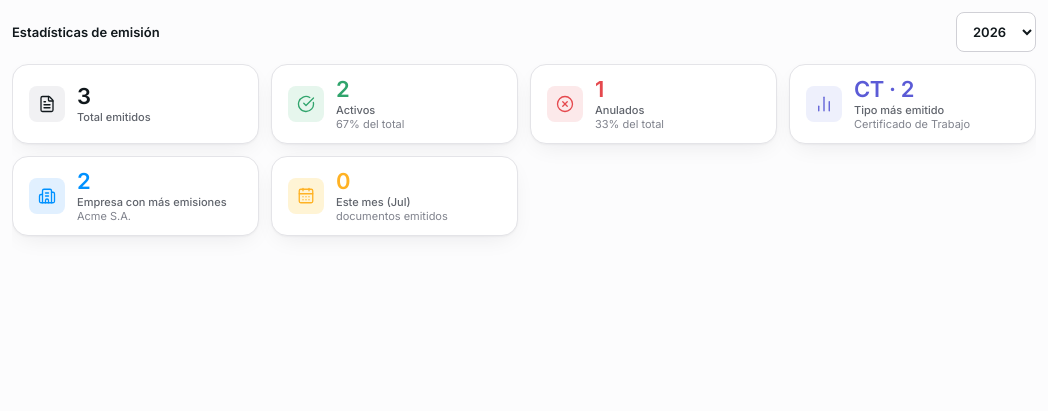
popover por empresa › groups by company name with correct counts
Click the button "2 Empresa con más emisiones Acme S.A.".
click(136, 196)  # box [12,156,259,236]
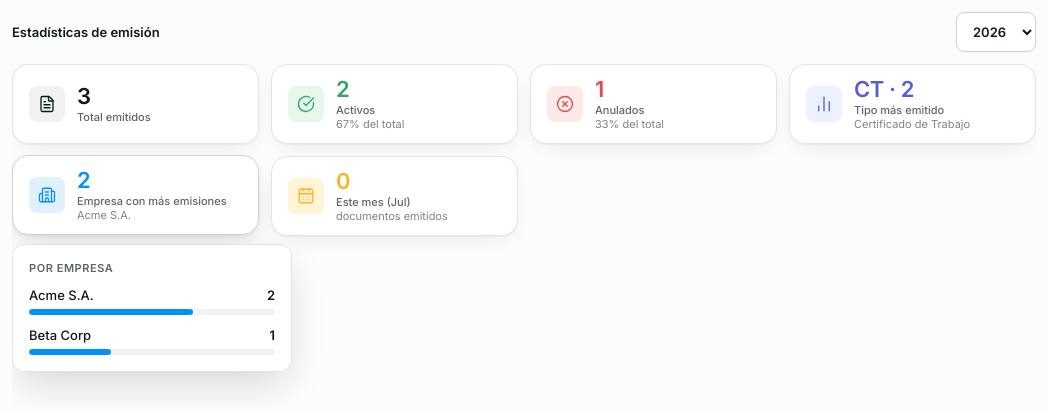
expect the 1st text "2" is shown: met, box [336,76,349,102]
expect the text "Acme S.A." below "Por empresa" is shown: met, box [29,287,94,303]
expect the text "Beta Corp" is shown: met, box [29,327,91,343]
